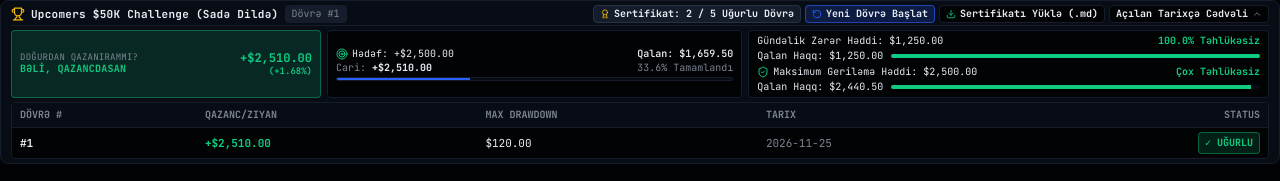
Test: PropFirmChallengeHUD › renders cycle history table immediately when defaultHistoryOpen is true
Expected: the element with test id "propfirm-history-table" shows "#1", [11,102,1269,159]
Expected: the element with test id "propfirm-history-table" shows "✓ UĞURLU", [1205,136,1253,149]
Click the button with test id "propfirm-history-toggle": [1189, 14] box [1109,5,1269,23]
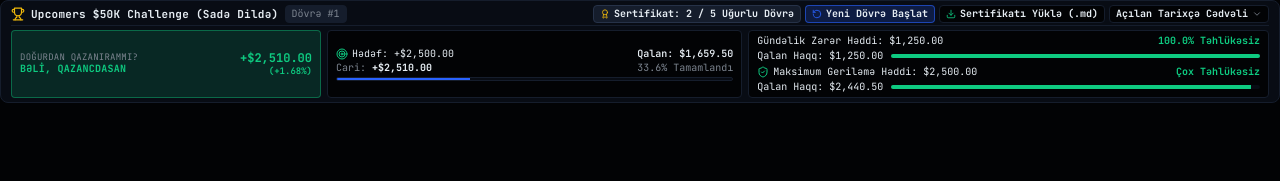
Expected: the element with test id "propfirm-history-table" is gone
